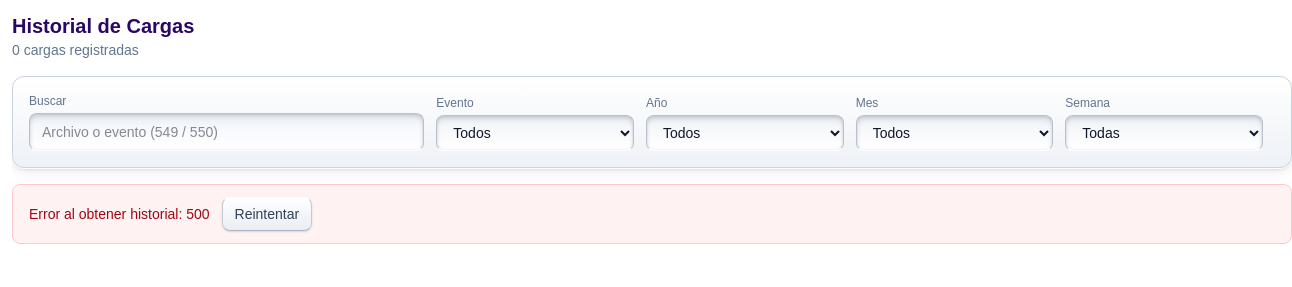
UploadHistorySection › ante un error conserva los filtros y permite reintentar
Expected: the message "Error al obtener historial: 500 Reintentar" is shown, top-left (12, 184), bottom-right (1291, 244)
Expected: the search field labelled "Buscar" is shown, top-left (29, 113), bottom-right (424, 151)
Click the button "Reintentar".
click(267, 214)  # box top-left (222, 197), bottom-right (312, 231)
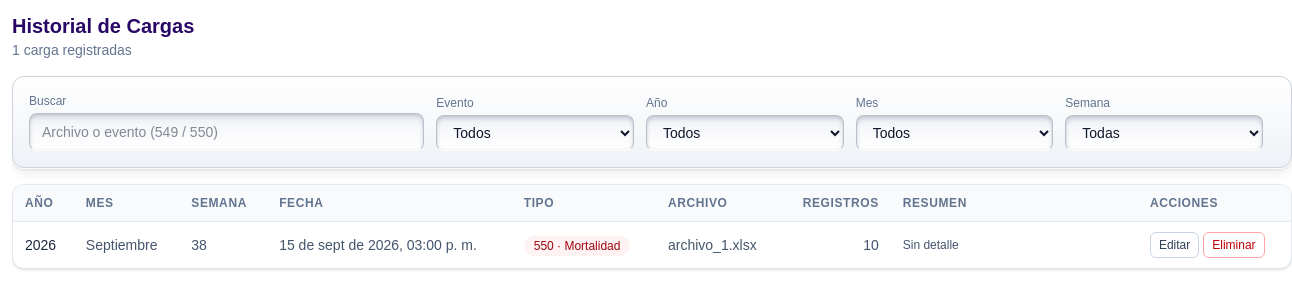
Expected: the text "archivo_1.xlsx" is shown, top-left (656, 222), bottom-right (780, 268)
